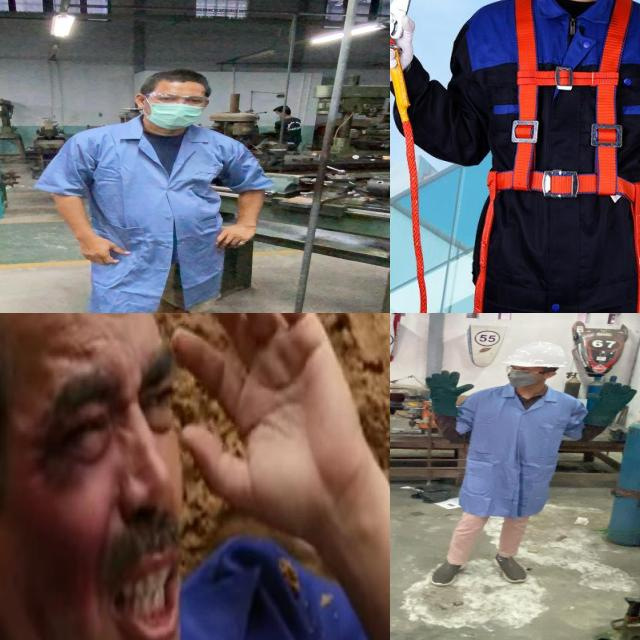Harness: (477, 0, 640, 313)
No_Ear-Protection: (0, 313, 190, 640)
face_mask: (143, 90, 211, 130), (505, 363, 549, 390)
glasses: (139, 91, 213, 110), (501, 364, 554, 375)
hand_glove: (580, 381, 640, 415), (418, 369, 479, 402)
hand_noglove: (72, 234, 132, 267), (211, 223, 258, 251)
head_helmet: (502, 338, 574, 371)
head_nohelmet: (140, 64, 214, 92)
person: (26, 61, 290, 313), (398, 343, 640, 593)
shoes: (484, 550, 544, 589), (424, 550, 476, 590)
